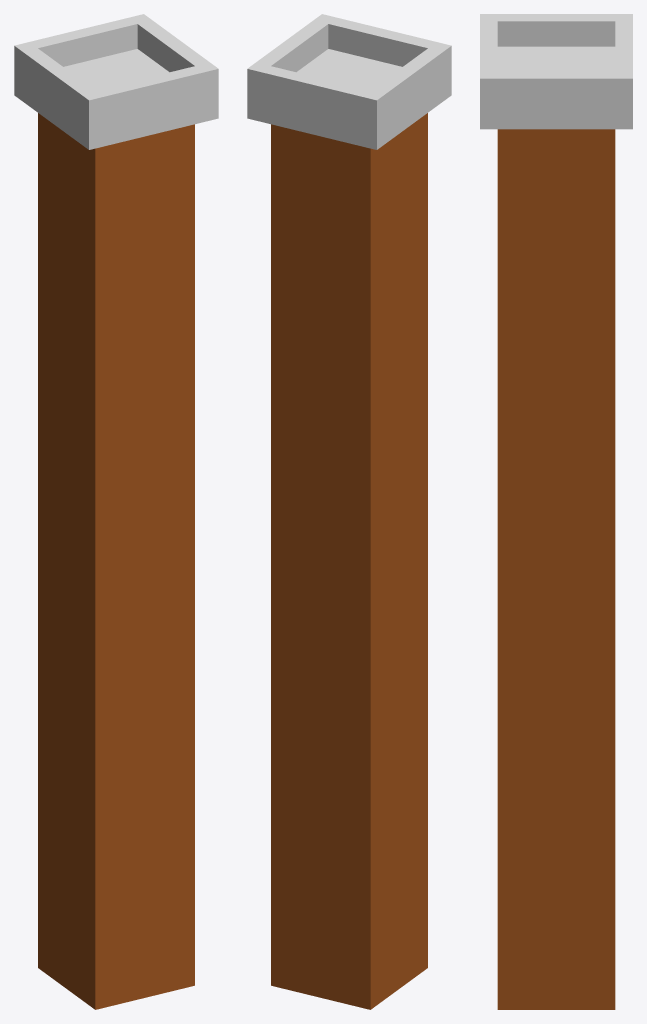
Rendered from Chimney.fbx.
The picture shows the model from 3 angles, left to right: view 1: azimuth 30°, elevation 25°; view 2: azimuth 150°, elevation 25°; view 3: azimuth 270°, elevation 25°; orthographic projection. The views are drawn at different scales.
Visible parts, largest first — view 1: Cube; view 2: Cube; view 3: Cube.
Part boxes in pixels (<box>): Cube: <box>14,14,218,1009</box>; Cube: <box>247,14,451,1009</box>; Cube: <box>480,14,632,1009</box>.
Size of the model in its own units: 109 by 740 by 109.
